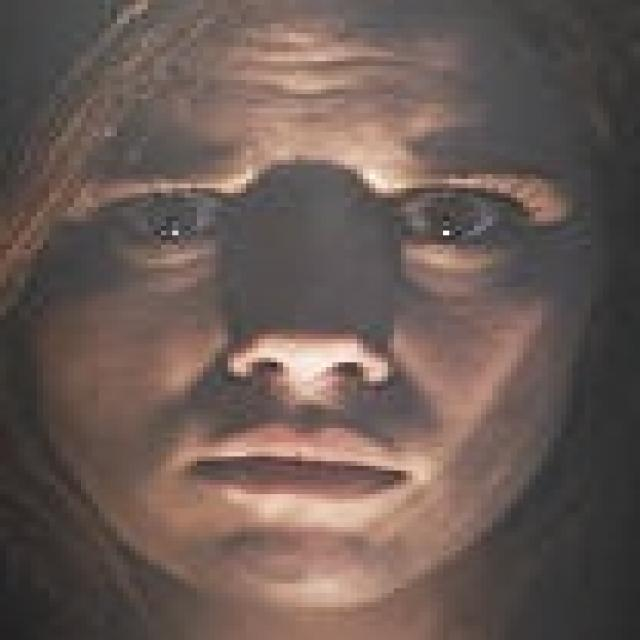Anxiety: (13, 0, 609, 612)
